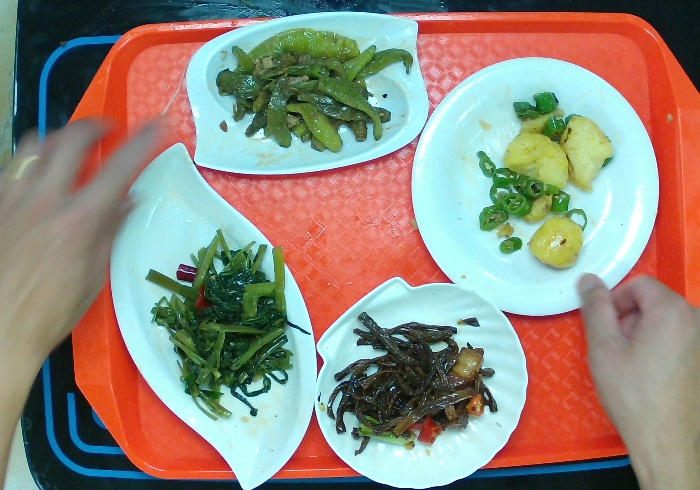RJxy-Bei_Ke_Wan: (313, 274, 534, 490)
RJxy-Jian_Jiao_Fang_Die: (182, 10, 433, 179)
RJxy-Jian_Jiao_Pan: (103, 138, 321, 490)
RJxy-Yuan_Pan: (408, 54, 667, 324)
